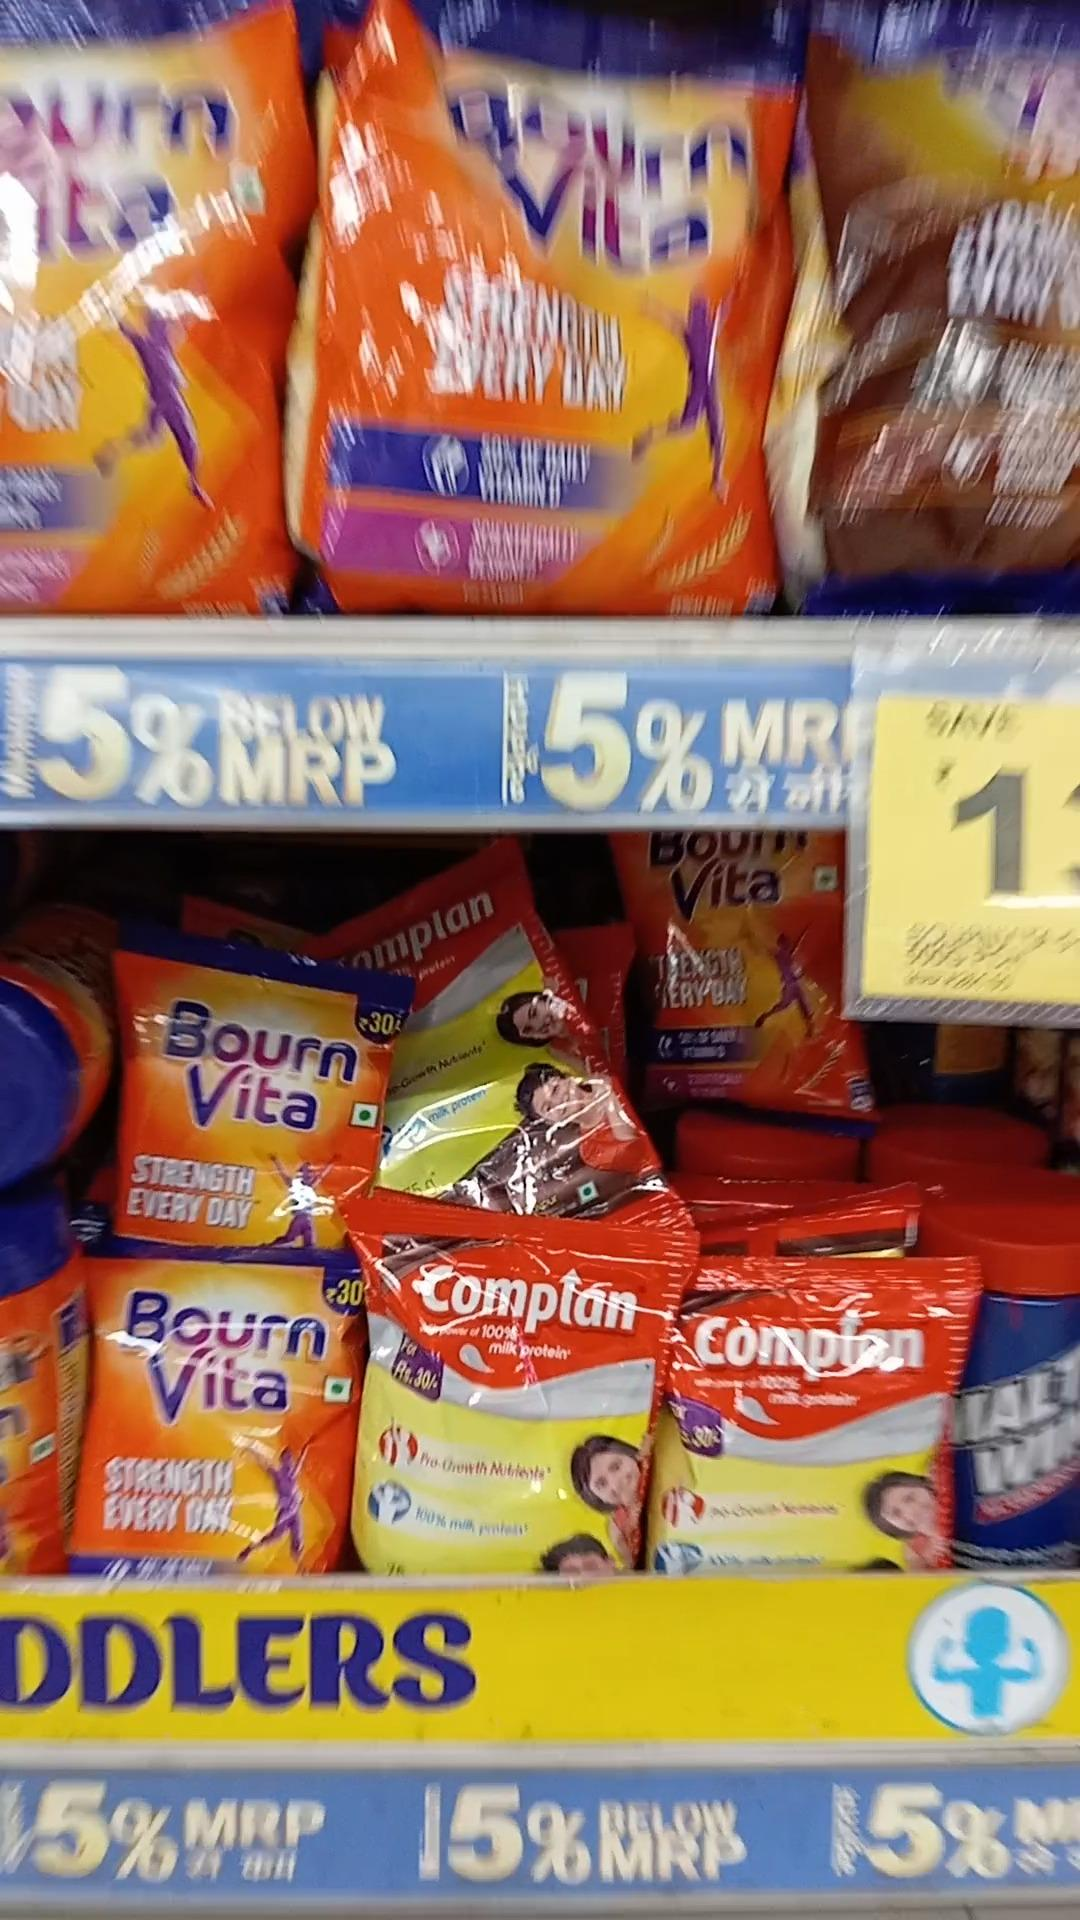BOURN_VITA_500_G_POUCH: (291, 0, 770, 608)
BOURN_VITA_75_G_POUCH: (76, 1246, 343, 1577), (121, 955, 353, 1233)
